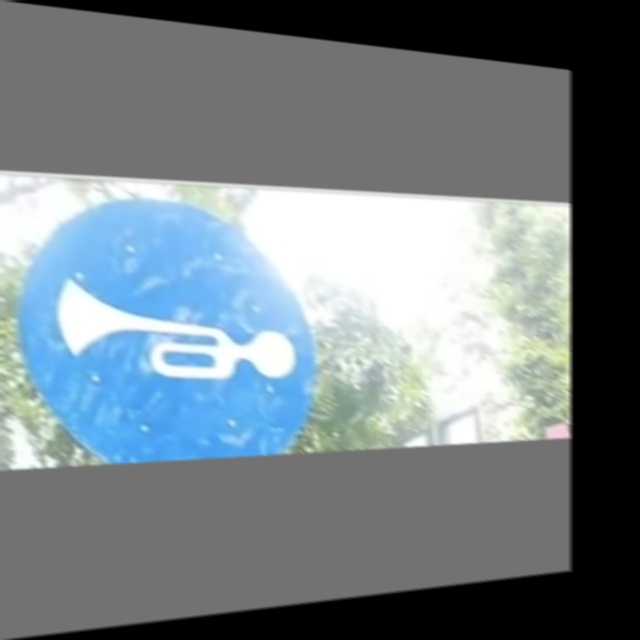Compulsory_Sound_Horn: (32, 198, 321, 460)
